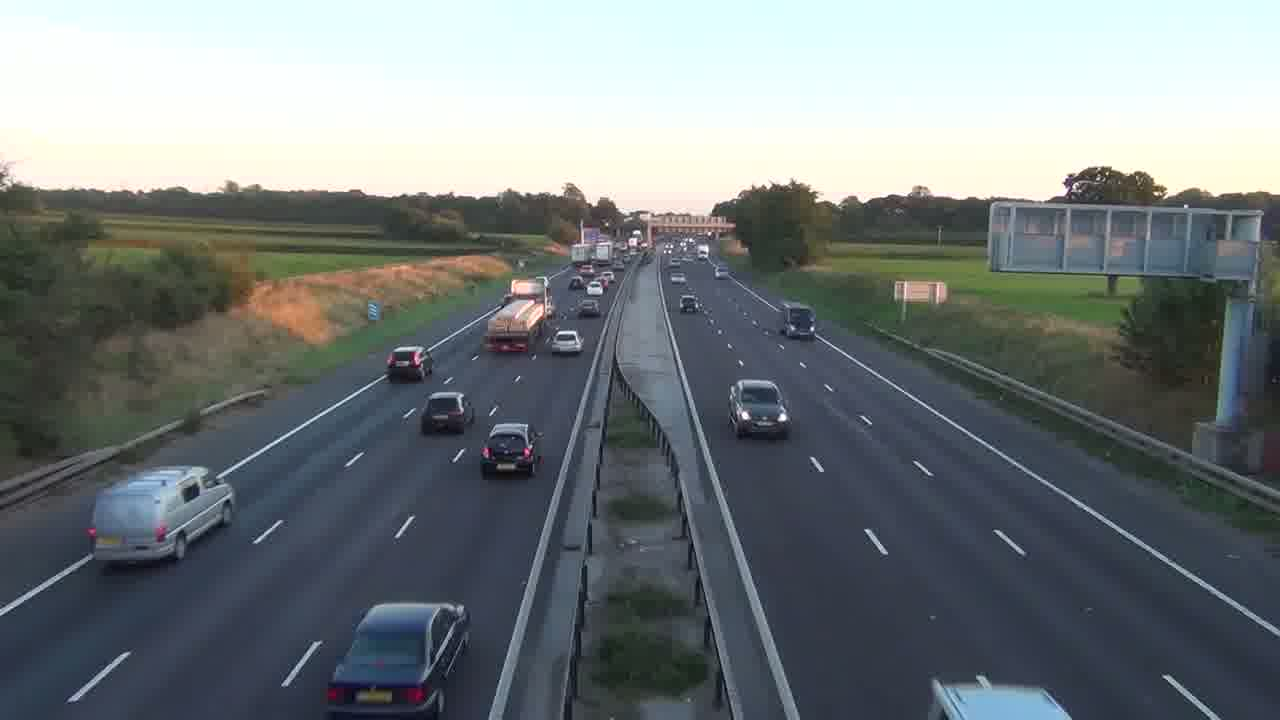car: (323, 600, 472, 717), (727, 378, 792, 439), (479, 421, 545, 477), (479, 422, 541, 476), (385, 345, 432, 382), (551, 328, 584, 356), (679, 294, 701, 313)
truck: (85, 464, 236, 567)
